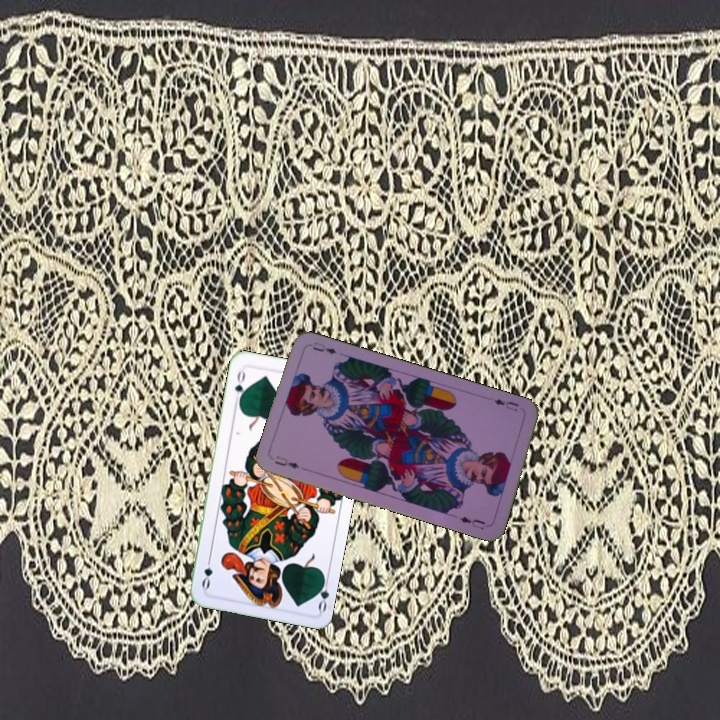EU: (270, 451, 301, 471), (489, 395, 521, 414)
GO: (311, 572, 332, 614), (231, 365, 248, 406)
